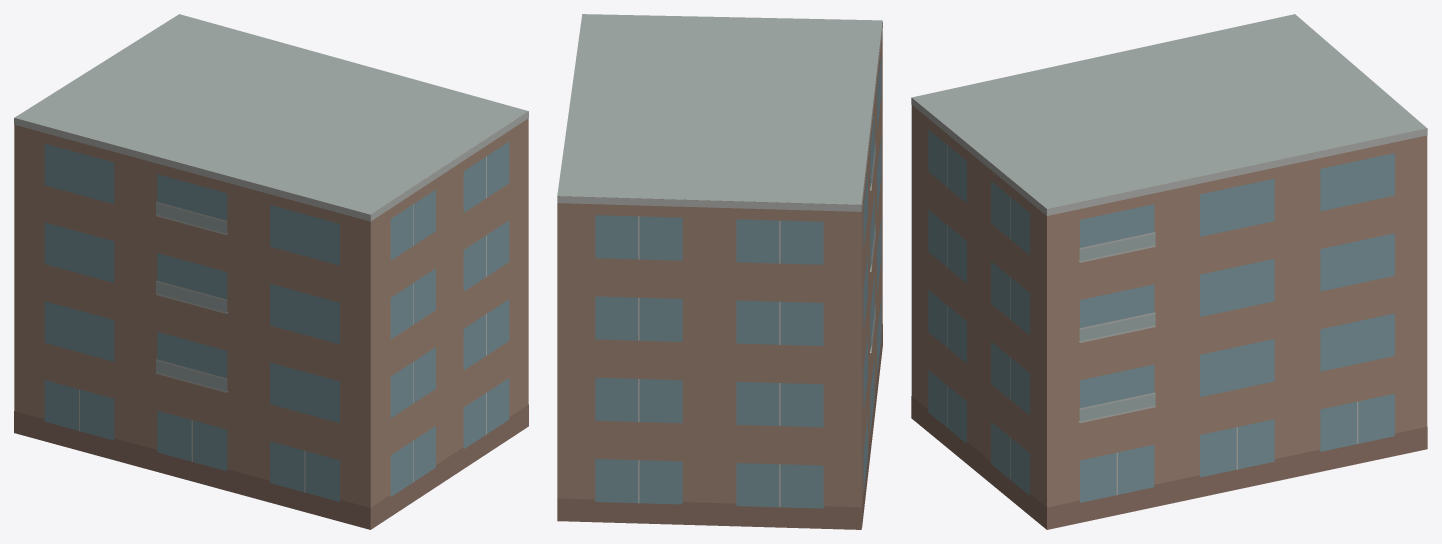
Rendered from survey-upis-32641496.glb.
3 renders of one model, left to right at view 1: azimuth 30°, elevation 25°; view 2: azimuth 150°, elevation 25°; view 3: azimuth 270°, elevation 25°, orthographic. The views are drawn at different scales.
Visible parts, largest first — view 1: survey-upis-32641496.tmp; view 2: survey-upis-32641496.tmp; view 3: survey-upis-32641496.tmp.
Boxes of the visible parts, x1,y1,x2,y2 form: survey-upis-32641496.tmp: (14, 14, 528, 529); survey-upis-32641496.tmp: (557, 14, 882, 529); survey-upis-32641496.tmp: (911, 14, 1427, 529).
Size of the model in its own units: 14.62 by 11.2 by 16.34.
